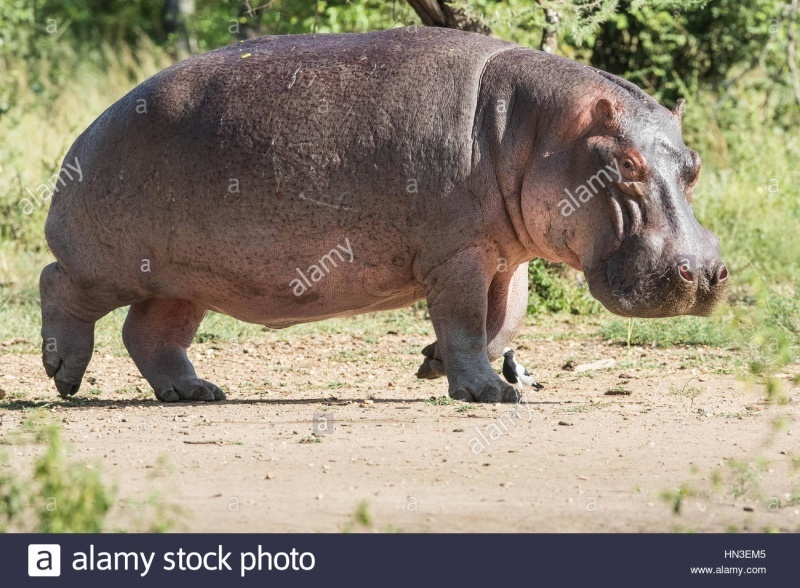hipopotamo: (33, 9, 736, 411)
